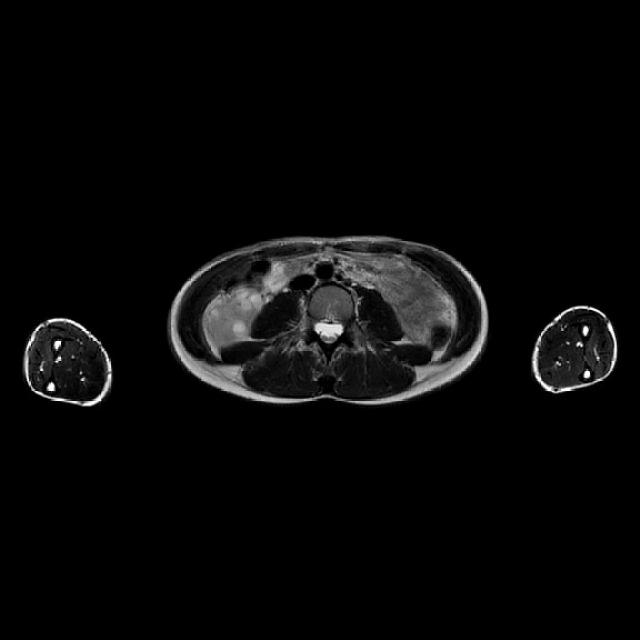sag: (209, 288, 264, 342)
